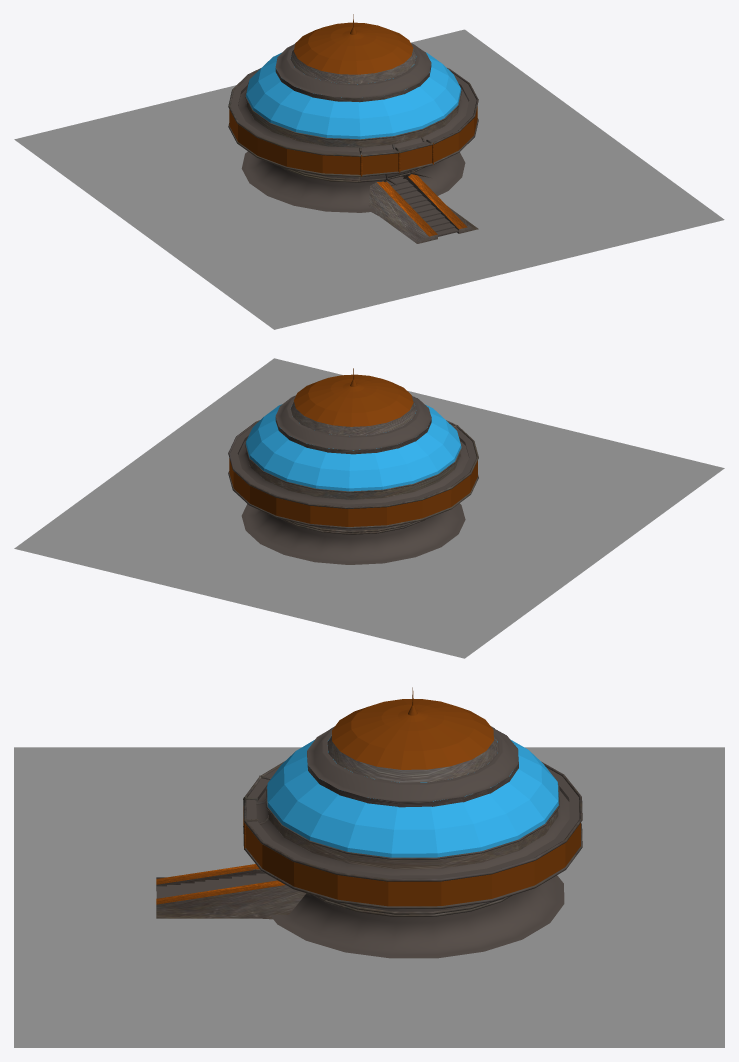
The model's file is obserwatorium.FBX.
3 renders of one model, top to bottom at view 1: azimuth 30°, elevation 25°; view 2: azimuth 150°, elevation 25°; view 3: azimuth 270°, elevation 25°, orthographic. The views are drawn at different scales.
Visible parts, largest first — view 1: podloze, milenium city, szklo, kopula, pomarancz, porecze; view 2: podloze, milenium city, szklo, kopula, pomarancz; view 3: podloze, milenium city, szklo, kopula, pomarancz, porecze.
Boxes of the visible parts, <box> form: podloze: <box>14,29,724,329</box>; milenium city: <box>228,42,478,243</box>; szklo: <box>246,52,461,139</box>; kopula: <box>294,14,413,74</box>; pomarancz: <box>229,106,477,176</box>; porecze: <box>377,172,467,236</box>; podloze: <box>14,358,724,658</box>; milenium city: <box>228,395,478,564</box>; szklo: <box>245,404,461,491</box>; kopula: <box>294,368,413,426</box>; pomarancz: <box>229,458,477,526</box>; podloze: <box>14,747,724,1047</box>; milenium city: <box>156,726,582,958</box>; szklo: <box>267,739,558,857</box>; kopula: <box>332,687,493,769</box>; pomarancz: <box>243,806,580,906</box>; porecze: <box>156,864,284,904</box>.
Bounding box in the file's own units: 39.37 × 39.37 × 13.12.
Materials: 4 (3 with a texture image).
